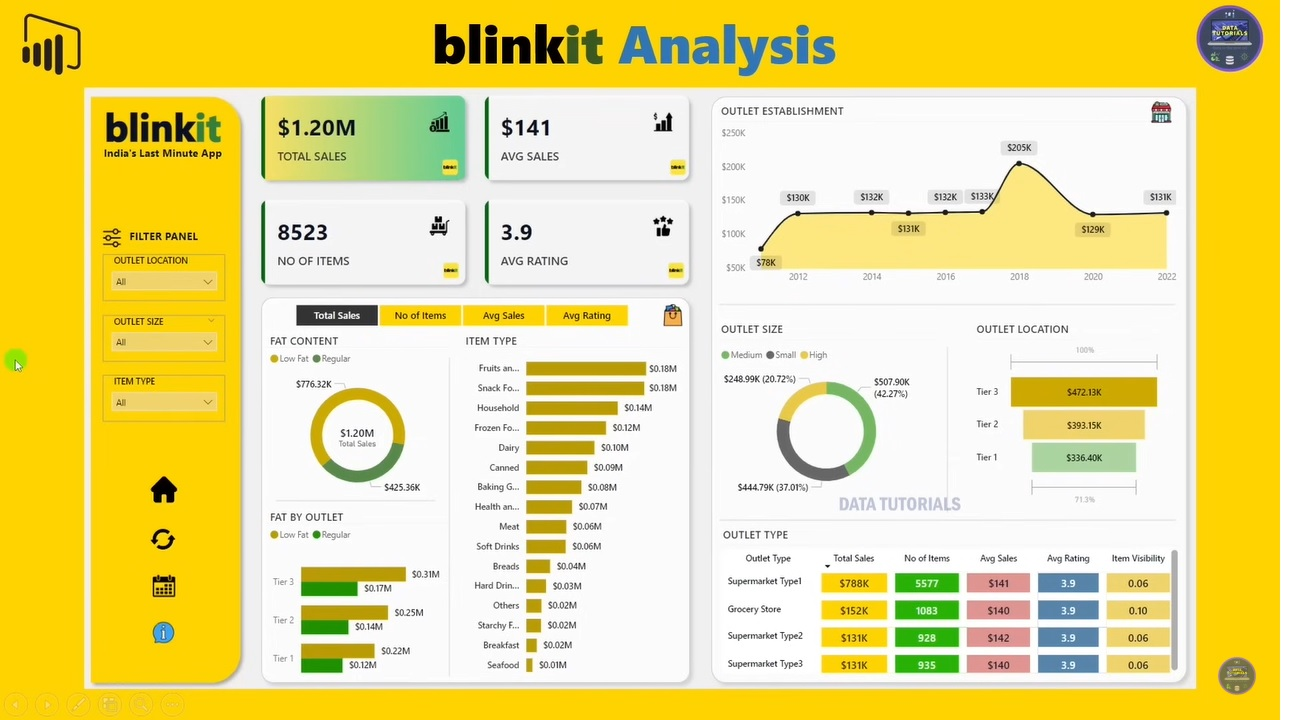

The dashboard page shown, as its layout file describes it:
{"tool":"powerbi","page":{"name":"Page 1","canvas":[1400,800],"ordinal":0},"visuals":[{"type":"shape","box":[0,8.7,206.1,761.6],"z":0},{"type":"textbox","box":[14,19.2,178.2,78.6],"z":1000},{"type":"textbox","box":[12.2,75.1,197.4,50.7],"z":2000},{"type":"cardVisual","fields":{"Data":["BlinkIT Grocery Data.Total Sales","BlinkIT Grocery Data.No of Items","BlinkIT Grocery Data.Avg Sales","BlinkIT Grocery Data.Avg Rating"]},"box":[200.9,0,569.4,279.5],"z":3000},{"type":"shape","box":[207.9,274.2,553.7,499.6],"z":4000},{"type":"slicer","fields":{"Values":["Metrics.Metrics"]},"box":[246.3,284.7,465,40],"z":5000},{"type":"donutChart","title":"FAT CONTENT","fields":{"Y":["BlinkIT Grocery Data.TOTAL SALES"],"Category":["BlinkIT Grocery Data.Item Fat Content"]},"box":[223.6,321.4,228.8,211.4],"z":6000},{"type":"cardVisual","fields":{"Data":["BlinkIT Grocery Data.TOTAL SALES"]},"box":[275,425,116.7,65],"z":7000},{"type":"clusteredBarChart","title":"FAT BY OUTLET","fields":{"Y":["BlinkIT Grocery Data.TOTAL SALES"],"Category":["BlinkIT Grocery Data.Outlet Location Type"],"Series":["BlinkIT Grocery Data.Item Fat Content"]},"box":[225.3,538,225.3,221.8],"z":8000},{"type":"shape","box":[242.8,501.3,188.6,59.4],"z":9000},{"type":"shape","box":[433.2,354.6,41.9,387.8],"z":10000},{"type":"barChart","title":"ITEM TYPE","fields":{"Y":["BlinkIT Grocery Data.TOTAL SALES"],"Category":["BlinkIT Grocery Data.Item Type"]},"box":[466.4,342.4,270.7,408.7],"z":11000},{"type":"shape","box":[768.6,7,621.8,765.1],"z":12000},{"type":"lineChart","title":"OUTLET ESTABLISHMENT","fields":{"Y":["BlinkIT Grocery Data.TOTAL SALES"],"Category":["BlinkIT Grocery Data.Outlet Establishment Year"]},"box":[782.5,27.9,588.6,235.8],"z":13000},{"type":"shape","box":[789.5,244.5,578.2,59.4],"z":14000},{"type":"donutChart","title":"OUTLET SIZE","fields":{"Y":["BlinkIT Grocery Data.TOTAL SALES"],"Category":["BlinkIT Grocery Data.Outlet Size"]},"box":[787.8,286.5,275,235],"z":15000},{"type":"shape","box":[1044.5,312.7,41.9,207.9],"z":16000},{"type":"funnel","title":"OUTLET LOCATION","fields":{"Y":["Sum(BlinkIT Grocery Data.Sales)"],"Category":["BlinkIT Grocery Data.Outlet Location Type"]},"box":[1076,281.2,300.4,244.5],"z":17000},{"type":"shape","box":[787.6,515.2,578.2,59.4],"z":18000},{"type":"pivotTable","title":"OUTLET TYPE","fields":{"Rows":["BlinkIT Grocery Data.Outlet Type"],"Values":["BlinkIT Grocery Data.TOTAL SALES","BlinkIT Grocery Data.NO OF ITEMS","BlinkIT Grocery Data.AVG SALES","BlinkIT Grocery Data.AVG RATING","Sum(BlinkIT Grocery Data.Item Visibility)"]},"box":[793.9,560.7,606.1,204.4],"z":19000},{"type":"slicer","fields":{"Values":["BlinkIT Grocery Data.Outlet Location Type"]},"box":[18.8,185,173.1,59.4],"z":19001},{"type":"textbox","box":[44.3,148.7,147,40.4],"z":19002},{"type":"image","box":[13.5,150,35.2,31.3],"z":19003},{"type":"slicer","fields":{"Values":["BlinkIT Grocery Data.Outlet Size"]},"box":[18.8,251.2,173.1,63.1],"z":19004},{"type":"slicer","fields":{"Values":["BlinkIT Grocery Data.Outlet Type"]},"box":[16.9,323.1,175,61.9],"z":19005},{"type":"image","box":[73.4,609.6,45.4,41.9],"z":19007},{"type":"image","box":[54.1,490.8,75.1,57.6],"z":19008},{"type":"image","box":[71.6,553.7,47.2,43.7],"z":19009}]}

Visuals, with their boxes in screenshot pixels (x1, y1, x2, y2), scaled from the page's 1400x800 canvas onto the 1297x720 screenshot:
shape: bbox=[0, 8, 191, 693]
textbox: bbox=[13, 17, 178, 88]
textbox: bbox=[11, 68, 194, 113]
cardVisual - BlinkIT Grocery Data.Total Sales x BlinkIT Grocery Data.No of Items: bbox=[186, 0, 714, 252]
shape: bbox=[193, 247, 706, 696]
slicer - Metrics.Metrics: bbox=[228, 256, 659, 292]
"FAT CONTENT" donutChart: bbox=[207, 289, 419, 480]
cardVisual - BlinkIT Grocery Data.TOTAL SALES: bbox=[255, 382, 363, 441]
"FAT BY OUTLET" clusteredBarChart: bbox=[209, 484, 417, 684]
shape: bbox=[225, 451, 400, 505]
shape: bbox=[401, 319, 440, 668]
"ITEM TYPE" barChart: bbox=[432, 308, 683, 676]
shape: bbox=[712, 6, 1288, 695]
"OUTLET ESTABLISHMENT" lineChart: bbox=[725, 25, 1270, 237]
shape: bbox=[731, 220, 1267, 274]
"OUTLET SIZE" donutChart: bbox=[730, 258, 985, 469]
shape: bbox=[968, 281, 1006, 469]
"OUTLET LOCATION" funnel: bbox=[997, 253, 1275, 473]
shape: bbox=[730, 464, 1265, 517]
"OUTLET TYPE" pivotTable: bbox=[735, 505, 1296, 689]
slicer - BlinkIT Grocery Data.Outlet Location Type: bbox=[17, 166, 178, 220]
textbox: bbox=[41, 134, 177, 170]
image: bbox=[13, 135, 45, 163]
slicer - BlinkIT Grocery Data.Outlet Size: bbox=[17, 226, 178, 283]
slicer - BlinkIT Grocery Data.Outlet Type: bbox=[16, 291, 178, 346]
image: bbox=[68, 549, 110, 586]
image: bbox=[50, 442, 120, 494]
image: bbox=[66, 498, 110, 538]
